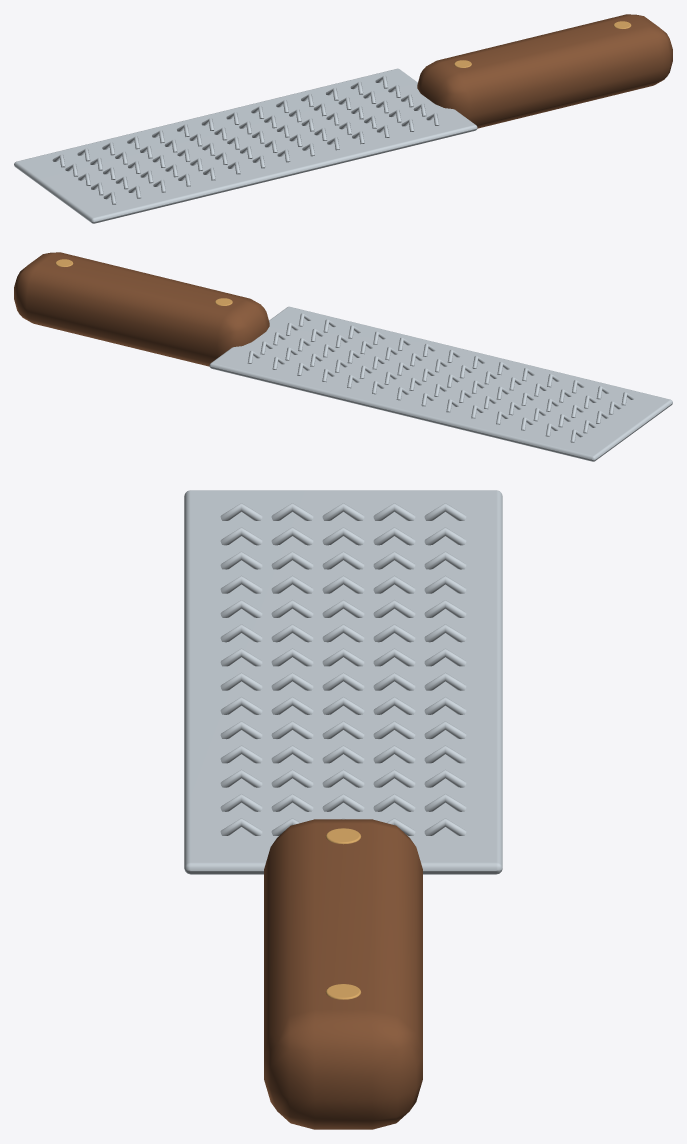
File: Grater.glb
The picture shows the model from 3 angles, top to bottom: view 1: azimuth 30°, elevation 25°; view 2: azimuth 150°, elevation 25°; view 3: azimuth 270°, elevation 25°; orthographic projection. The views are drawn at different scales.
Parts seen in each view (by area): view 1: Rasp bed, Contoured grip.005; view 2: Rasp bed, Contoured grip.005; view 3: Rasp bed, Contoured grip.005.
Boxes of the visible parts, box(x1,y1,x2,y2) form: Rasp bed: box(14, 68, 477, 223); Contoured grip.005: box(417, 14, 672, 128); Rasp bed: box(209, 306, 672, 461); Contoured grip.005: box(14, 252, 269, 366); Rasp bed: box(184, 490, 502, 874); Contoured grip.005: box(264, 819, 422, 1129).
Bounding box in the file's own units: 0.221 × 0.0205 × 0.05.
